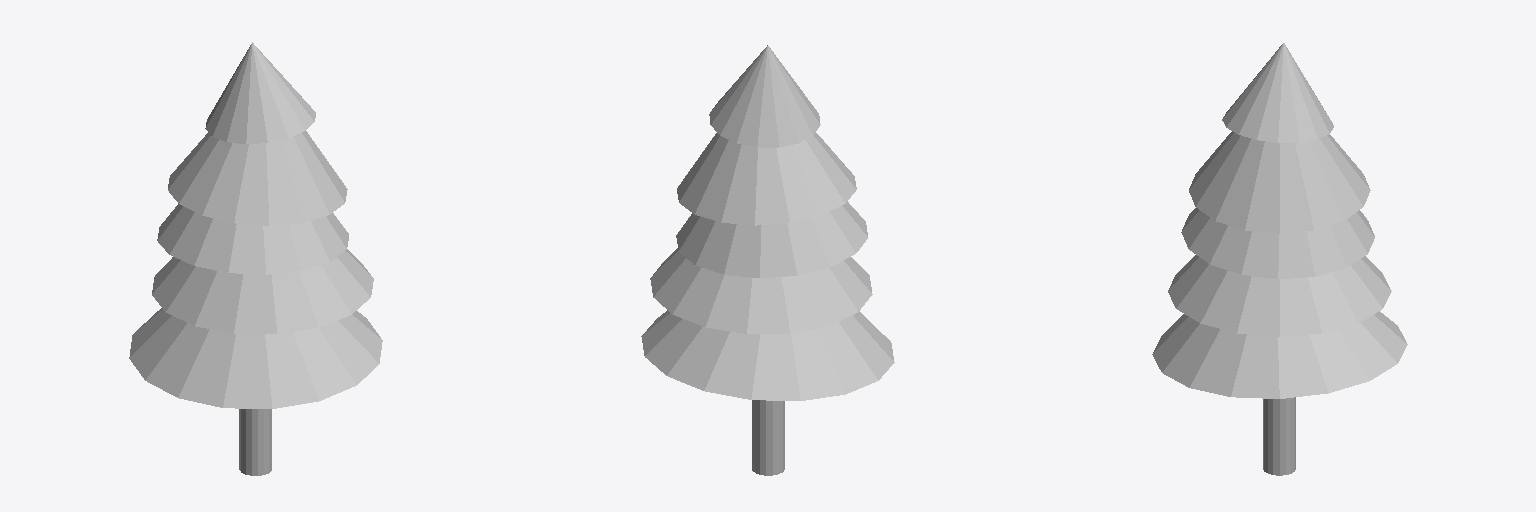
File: tree.obj
The picture shows the model from 3 angles: view 1: azimuth 30°, elevation 25°; view 2: azimuth 150°, elevation 25°; view 3: azimuth 270°, elevation 25°; orthographic projection.
Visible parts, largest first — view 1: Cylinder; view 2: Cylinder; view 3: Cylinder.
Part boxes in pixels (bbox=[...]): Cylinder: bbox=[129, 42, 382, 475]; Cylinder: bbox=[641, 45, 894, 475]; Cylinder: bbox=[1152, 43, 1407, 475].
Bounding box in the file's own units: 7.68 × 14.11 × 7.68.